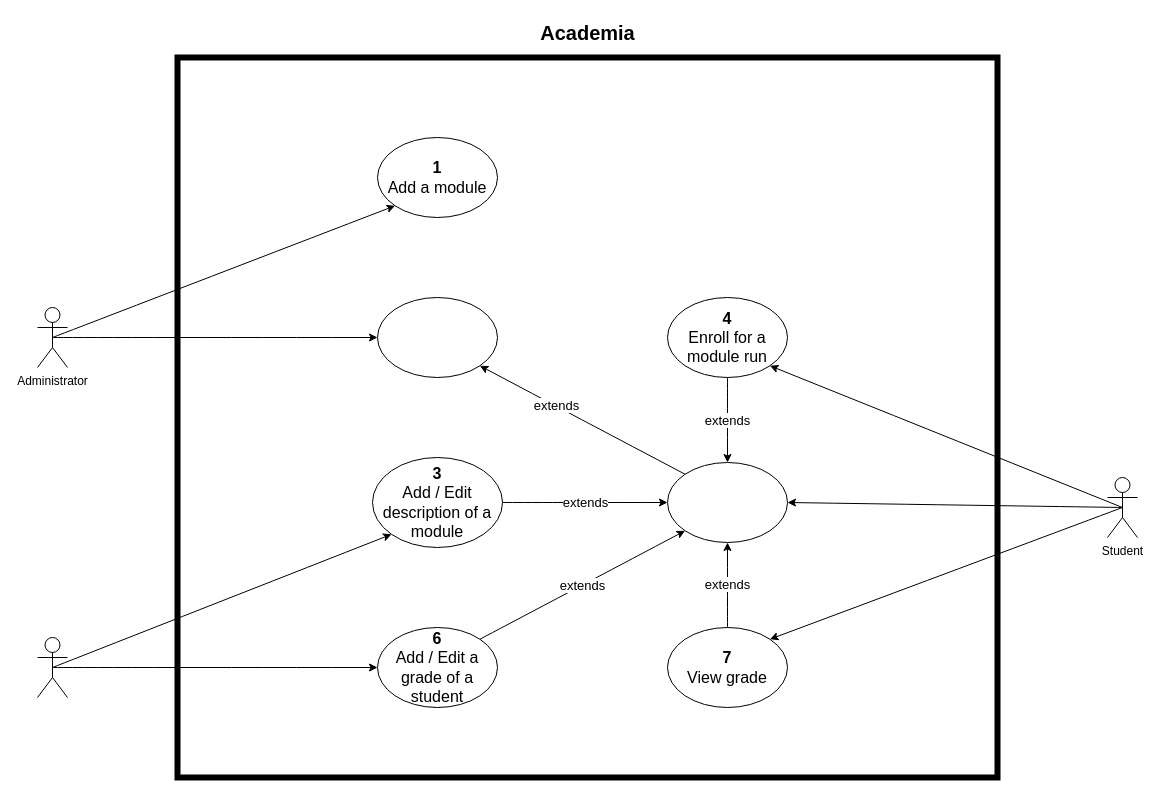
This 1160x797 diagram has some shape labels left out. Each missing label, with the centre of its shape:
"2 Add a module run" belongs at (x=437, y=337).
"5 Get overview of module runs" belongs at (x=727, y=502).
"Teacher" belongs at (x=52, y=667).
